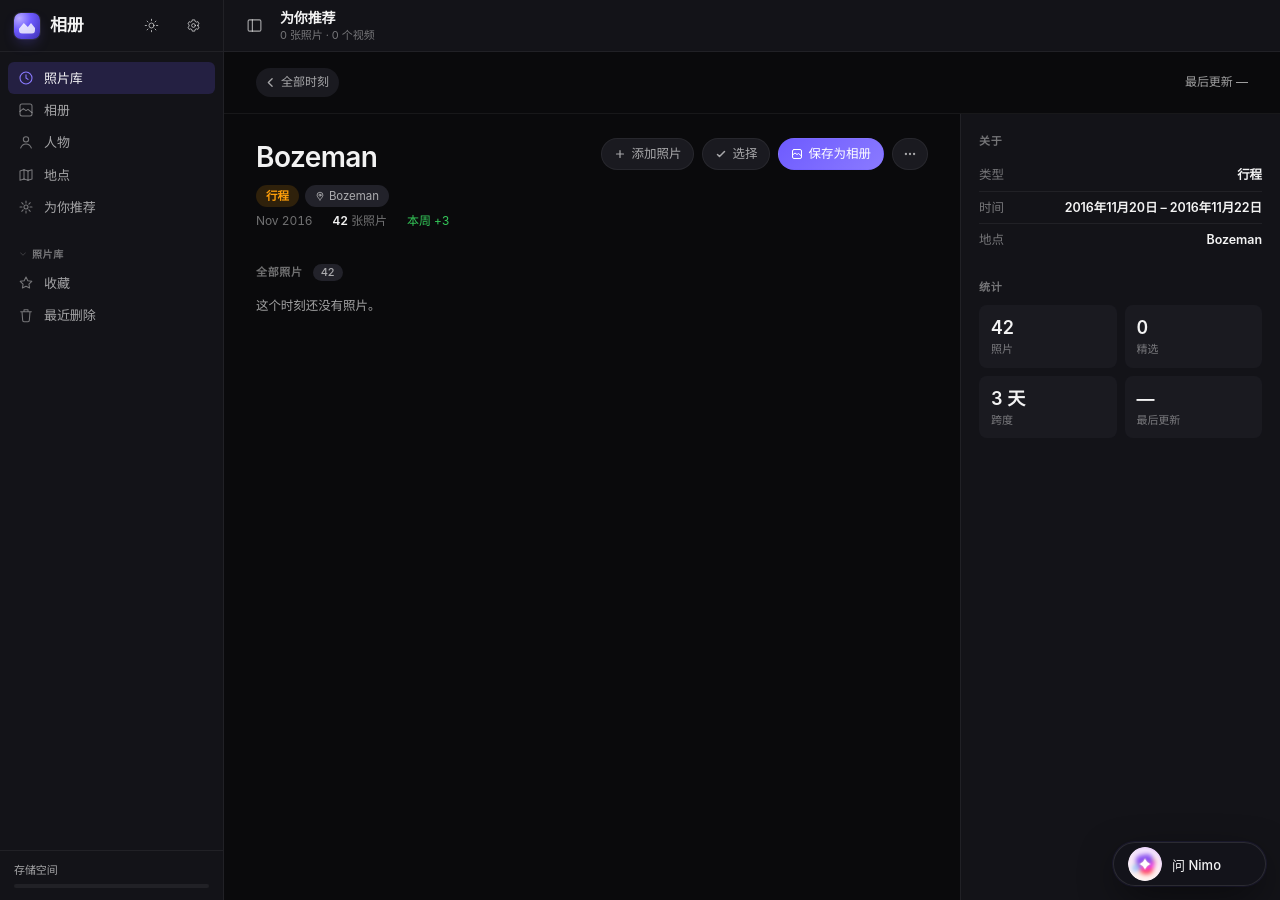
delete moment › renders Vue 2's own wording for the more menu's delete item
The width and height of the screenshot is (1280, 900).
Click the button with test id "mo-more": [910, 154] box [892,138,928,170]
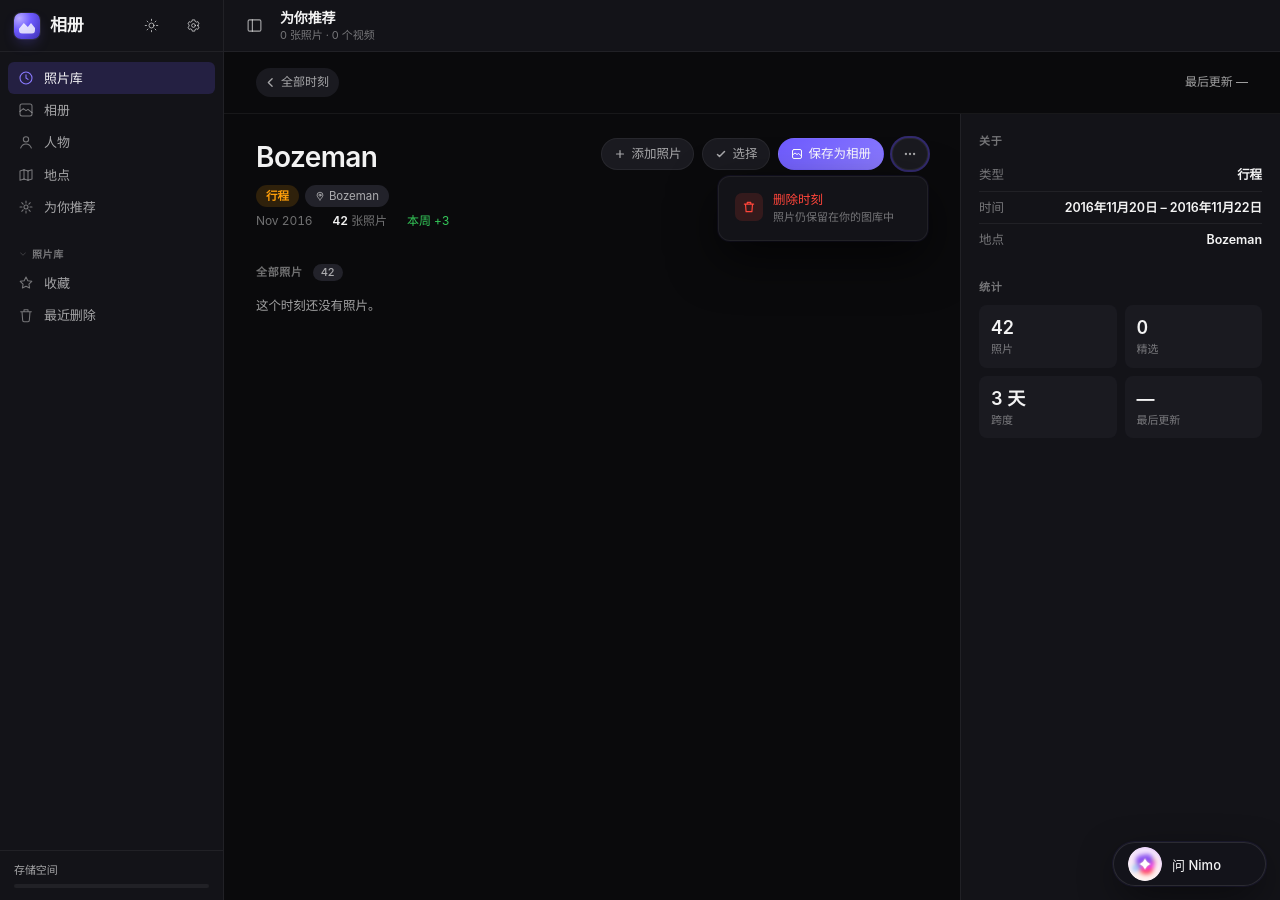
Expected: the button with test id "mo-delete" shows "删除时刻", [725,183,921,234]
Expected: the button with test id "mo-delete" shows "照片仍保留在你的图库中", [725,183,921,234]
